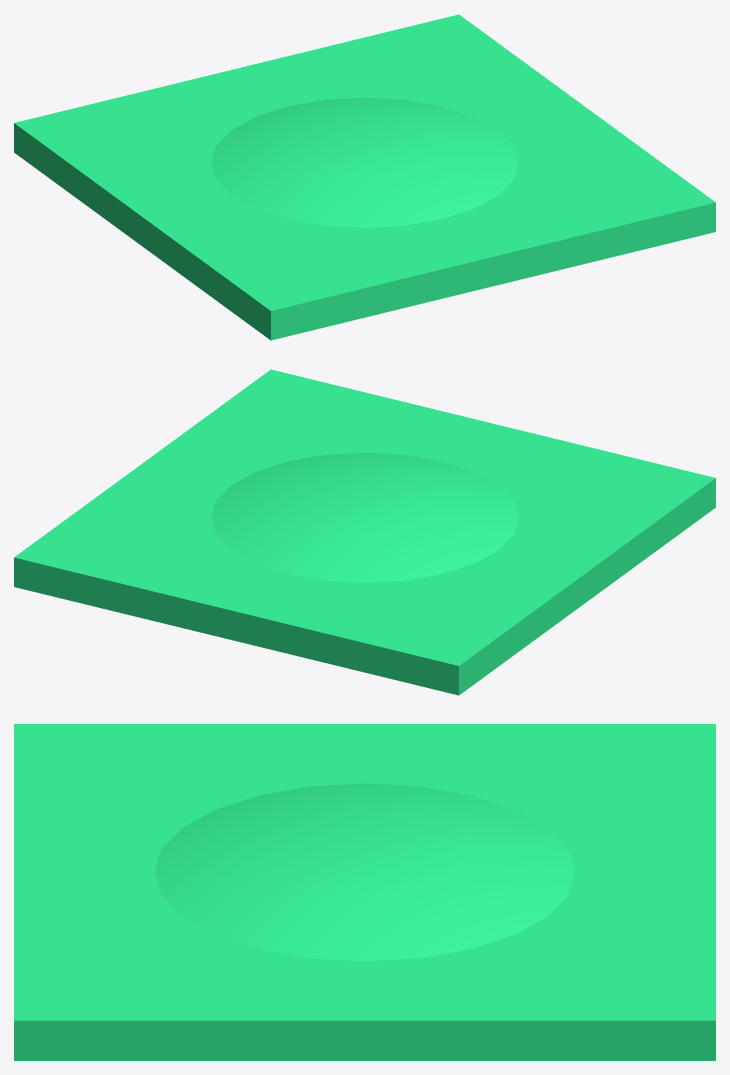
Rendered from bump.fbx.
3 views of the same model, one above another, from view 1: azimuth 30°, elevation 25°; view 2: azimuth 150°, elevation 25°; view 3: azimuth 270°, elevation 25° (orthographic). The views are drawn at different scales.
Visible parts, largest first — view 1: bump; view 2: bump; view 3: bump.
Boxes of the visible parts, box(x1,y1,x2,y2) form: bump: box(14, 14, 715, 340); bump: box(14, 369, 715, 695); bump: box(14, 724, 715, 1060).
Size of the model in its own units: 10 by 0.9666 by 10.
